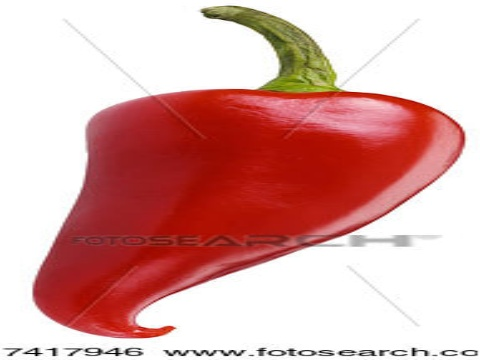Chilli: (29, 12, 468, 341)
